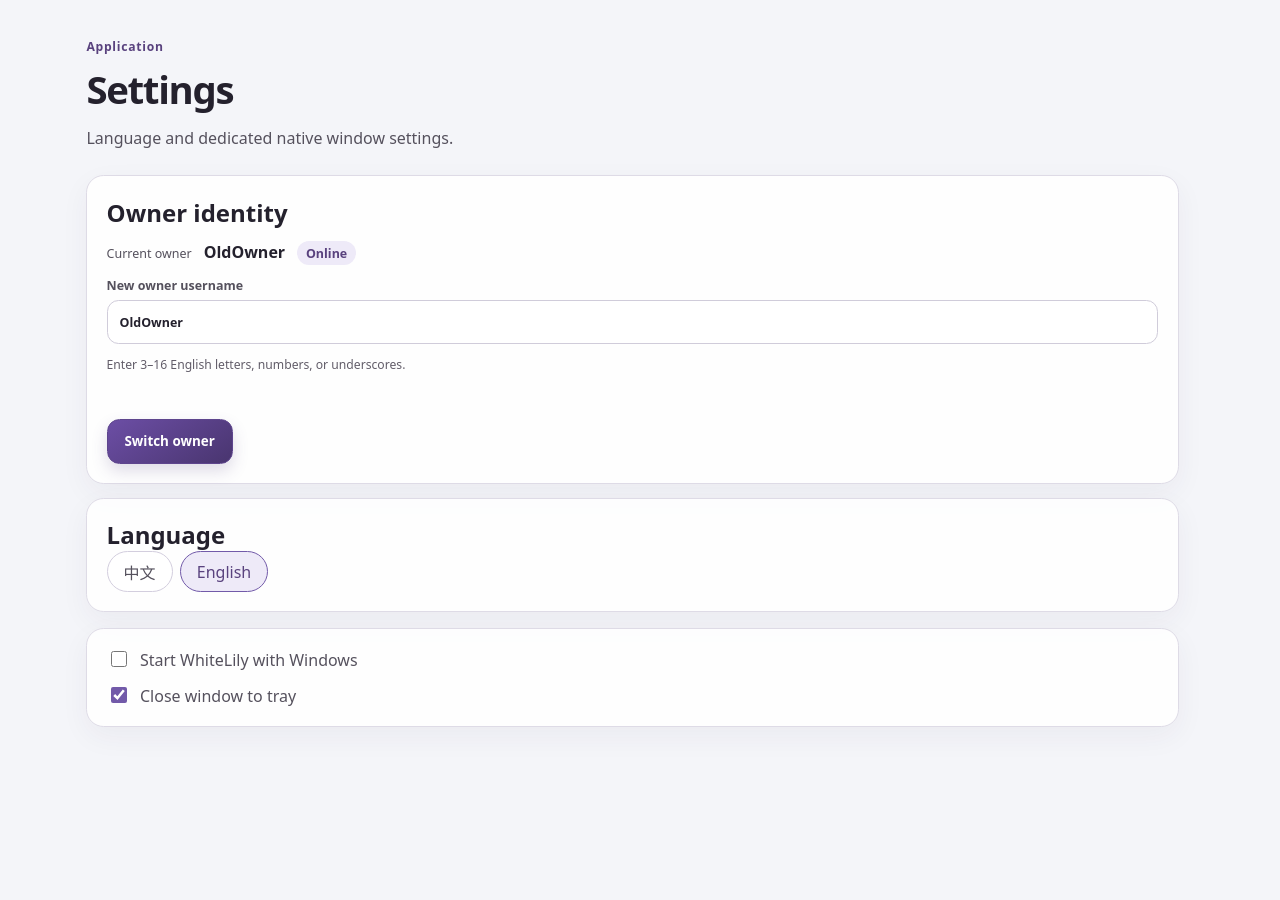
Test case: SettingsPage › rejects intended username at an older revision as an acknowledgement
Step 1. Replace the text in the field labelled "New owner username" with "NewOwner" → point(632, 322), box [107,300,1158,344]
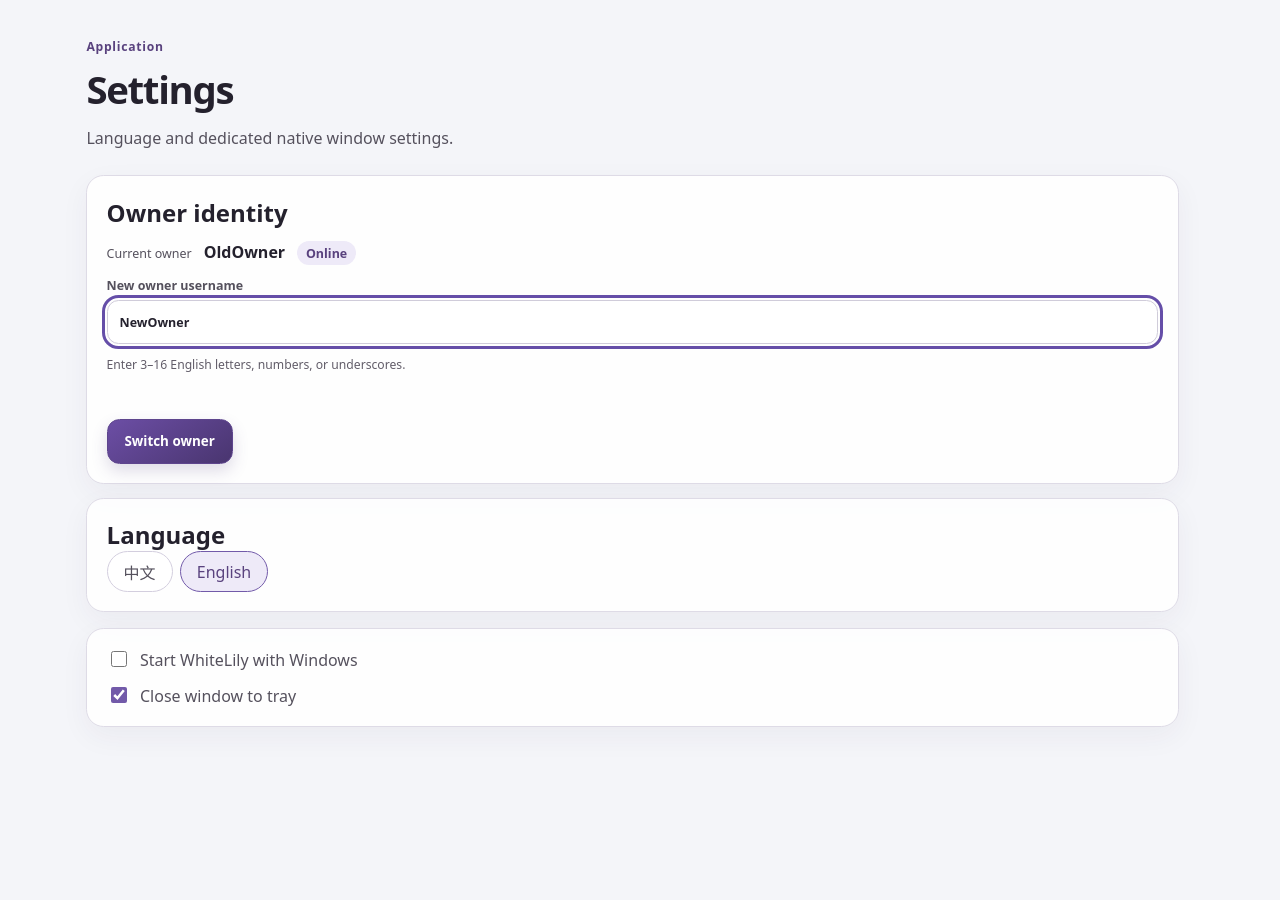
Step 2. Click the button "Switch owner" → point(170, 441), box [107,419,233,464]
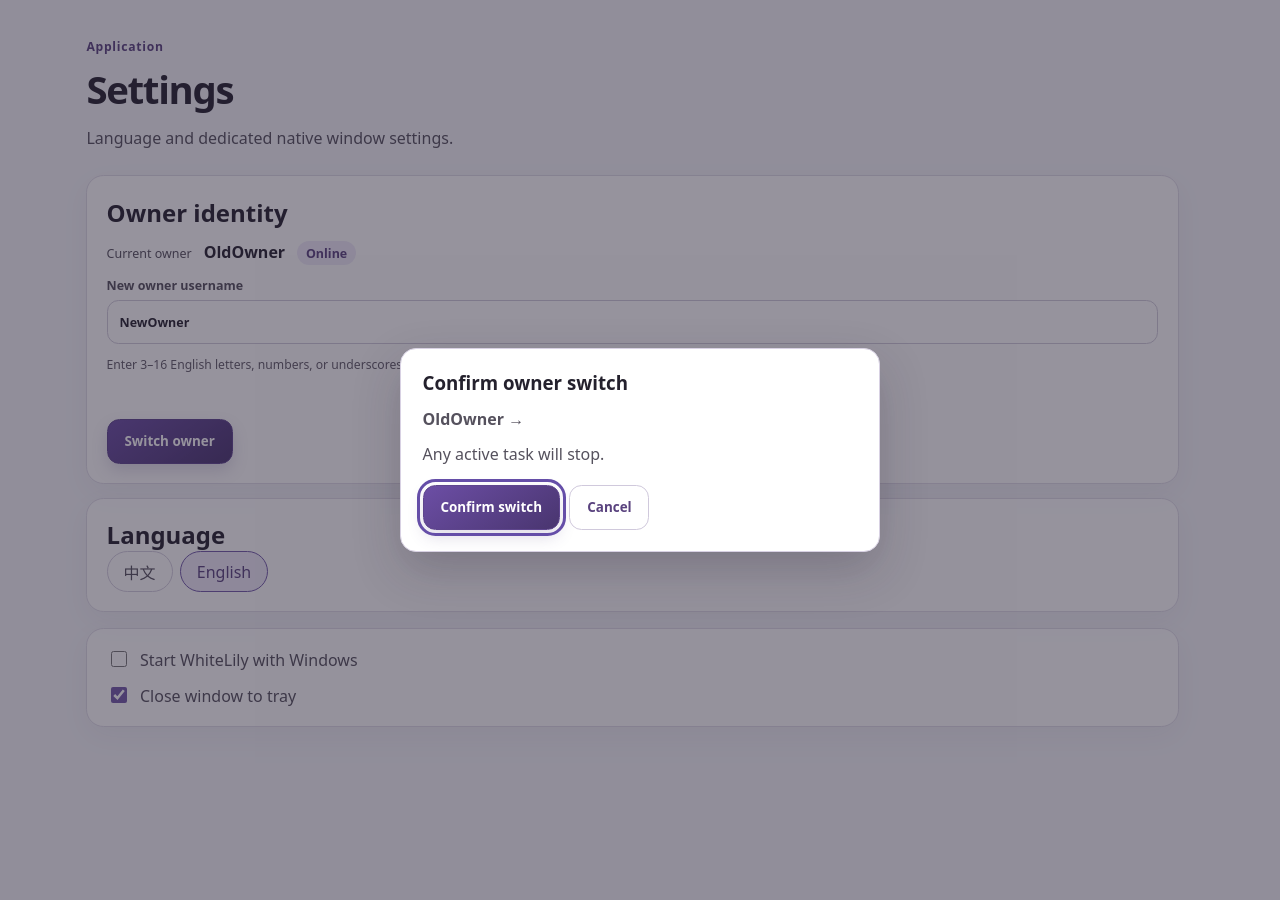
Step 3. Click the button "Confirm switch" → point(491, 507), box [423,485,560,530]
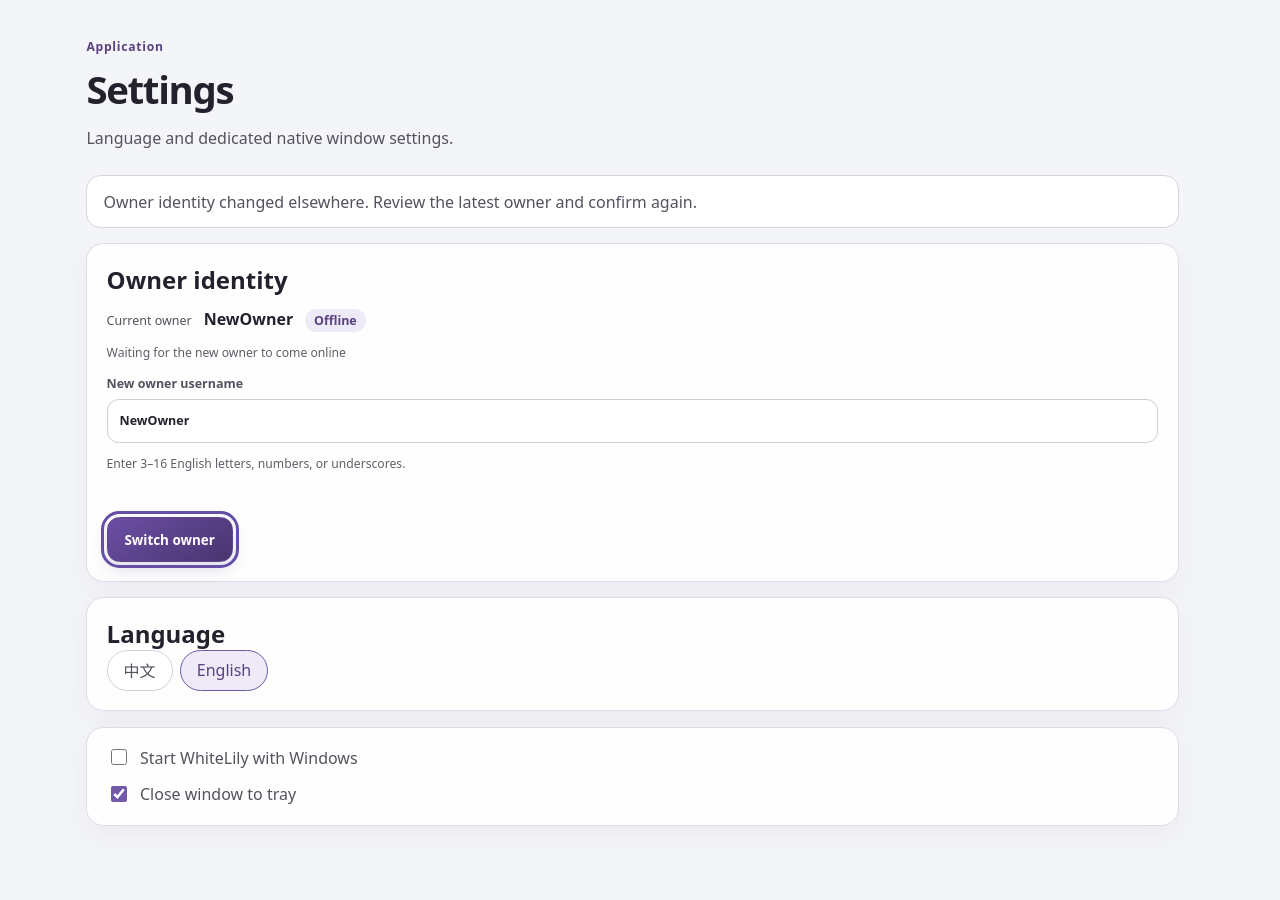
Check: the text "Owner identity changed elsewhere. Review the latest owner and confirm again." is shown, box [86,175,1179,228]
Check: the dialog is gone
